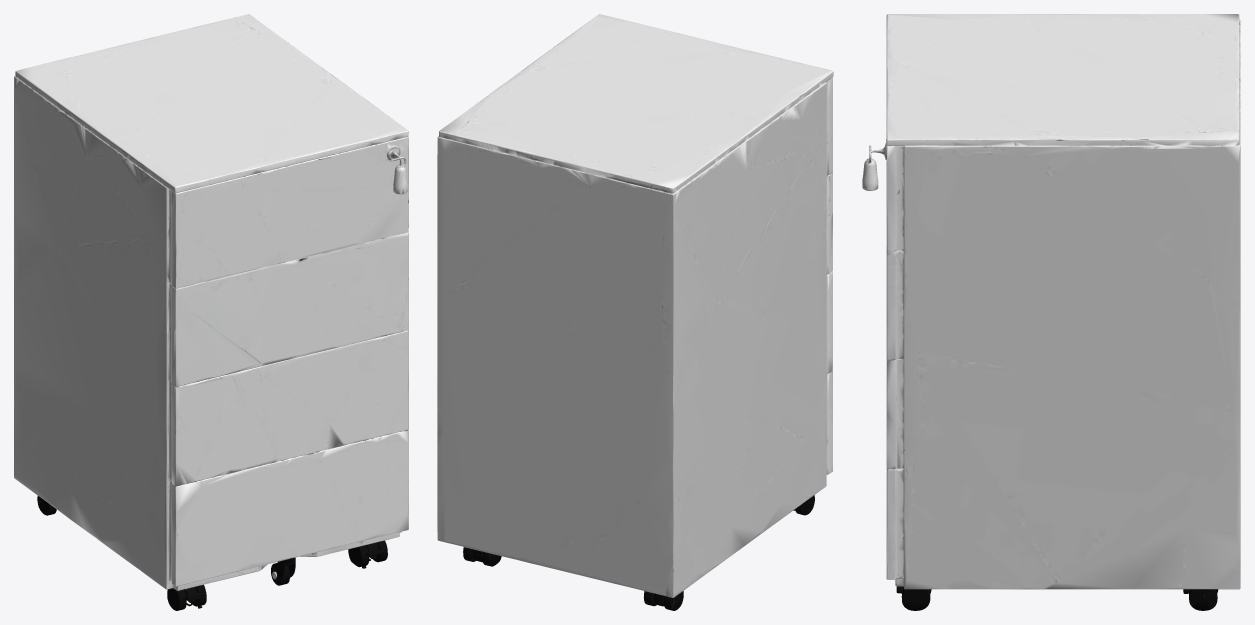
Rendered from rollcontainer-01.glb.
The picture shows the model from 3 angles, left to right: view 1: azimuth 30°, elevation 25°; view 2: azimuth 150°, elevation 25°; view 3: azimuth 270°, elevation 25°; orthographic projection. The views are drawn at different scales.
Bounding box in the file's own units: 1.08 × 1.91 × 1.36.
Materials: 1 (1 with a texture image).
